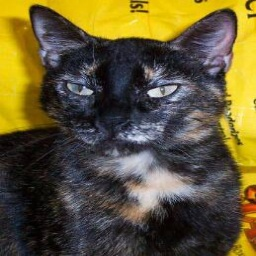cat: (0, 6, 245, 256)
